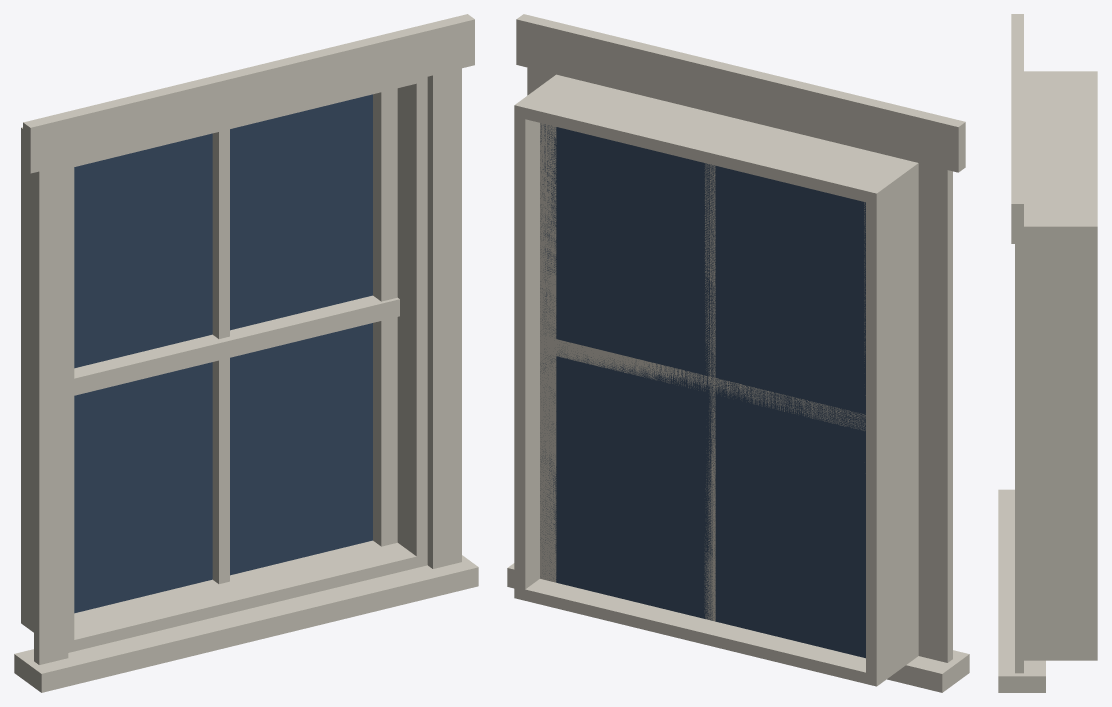
Rendered from kit_window_sash.obj.
The picture shows the model from 3 angles, left to right: view 1: azimuth 30°, elevation 25°; view 2: azimuth 150°, elevation 25°; view 3: azimuth 270°, elevation 25°; orthographic projection. The views are drawn at different scales.
Visible parts, largest first — view 1: kit_window_sash; view 2: kit_window_sash; view 3: kit_window_sash.
Boxes of the visible parts, box(x1,y1,x2,y2) form: kit_window_sash: box(14, 14, 478, 692); kit_window_sash: box(507, 14, 969, 692); kit_window_sash: box(998, 14, 1097, 692).
Bounding box in the file's own units: 1.22 × 1.47 × 0.27.
